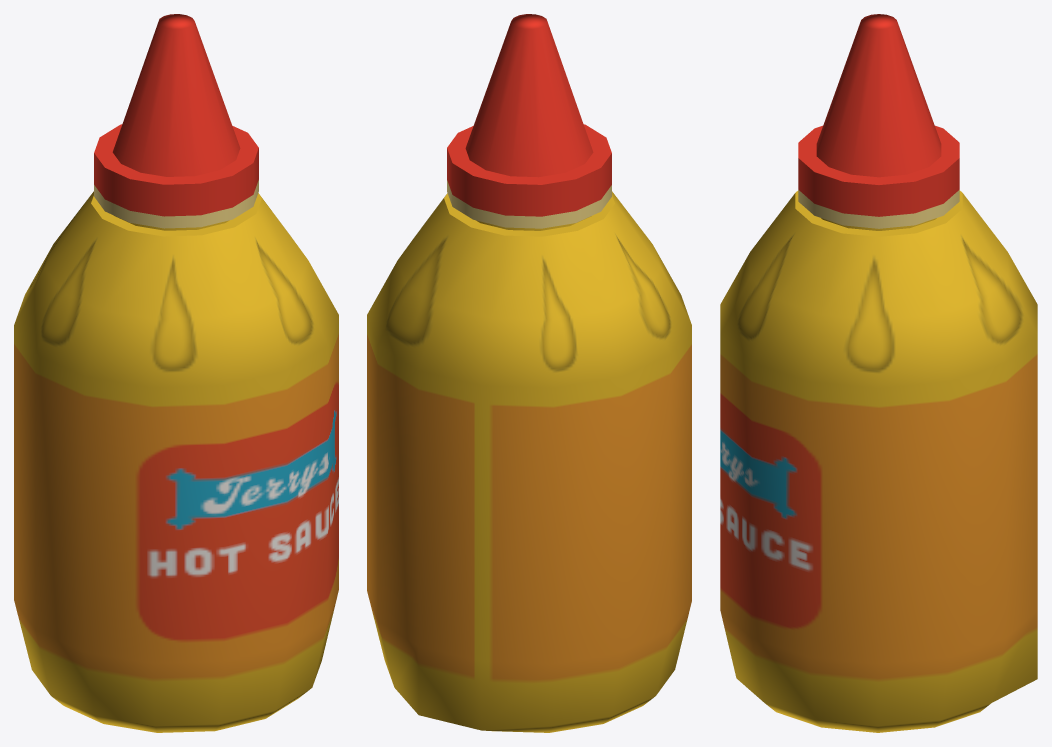
The model's file is Mustard.fbx.
The picture shows the model from 3 angles, left to right: view 1: azimuth 30°, elevation 25°; view 2: azimuth 150°, elevation 25°; view 3: azimuth 270°, elevation 25°; orthographic projection.
Visible parts, largest first — view 1: Mustard; view 2: Mustard; view 3: Mustard.
Boxes of the visible parts, x1,y1,x2,y2 form: Mustard: (14, 14, 338, 732); Mustard: (367, 14, 691, 732); Mustard: (720, 14, 1037, 732).
Size of the model in its own units: 2 by 4.45 by 1.95.
